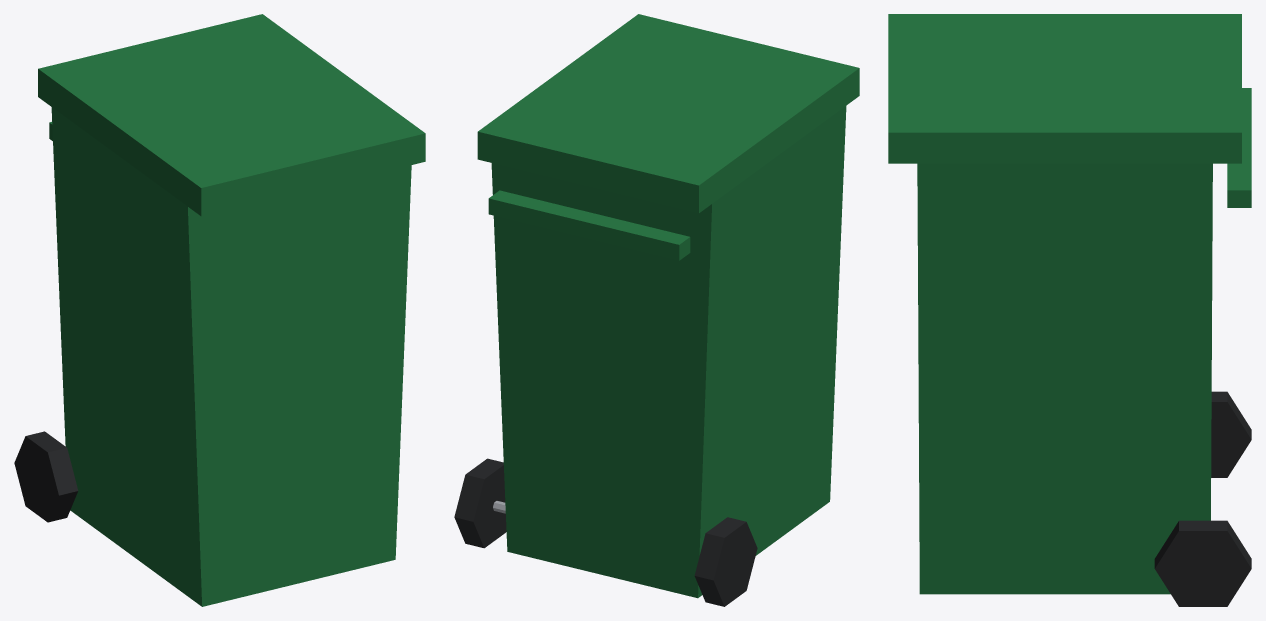
The model's file is thung_rac_240l.far.glb.
3 views of the same model, side by side, from view 1: azimuth 30°, elevation 25°; view 2: azimuth 150°, elevation 25°; view 3: azimuth 270°, elevation 25° (orthographic). The views are drawn at different scales.
Parts seen in each view (by area): view 1: thung_rac_240l, nap_thung_rac; view 2: thung_rac_240l, nap_thung_rac; view 3: thung_rac_240l, nap_thung_rac.
Part boxes in pixels (x1=…): thung_rac_240l: x1=14, y1=107, x2=411, y2=606; nap_thung_rac: x1=38, y1=14, x2=425, y2=216; thung_rac_240l: x1=454, y1=106, x2=846, y2=606; nap_thung_rac: x1=477, y1=14, x2=859, y2=213; thung_rac_240l: x1=917, y1=88, x2=1251, y2=606; nap_thung_rac: x1=888, y1=14, x2=1241, y2=163.
Size of the model in its own units: 0.68 by 1.07 by 0.75.
